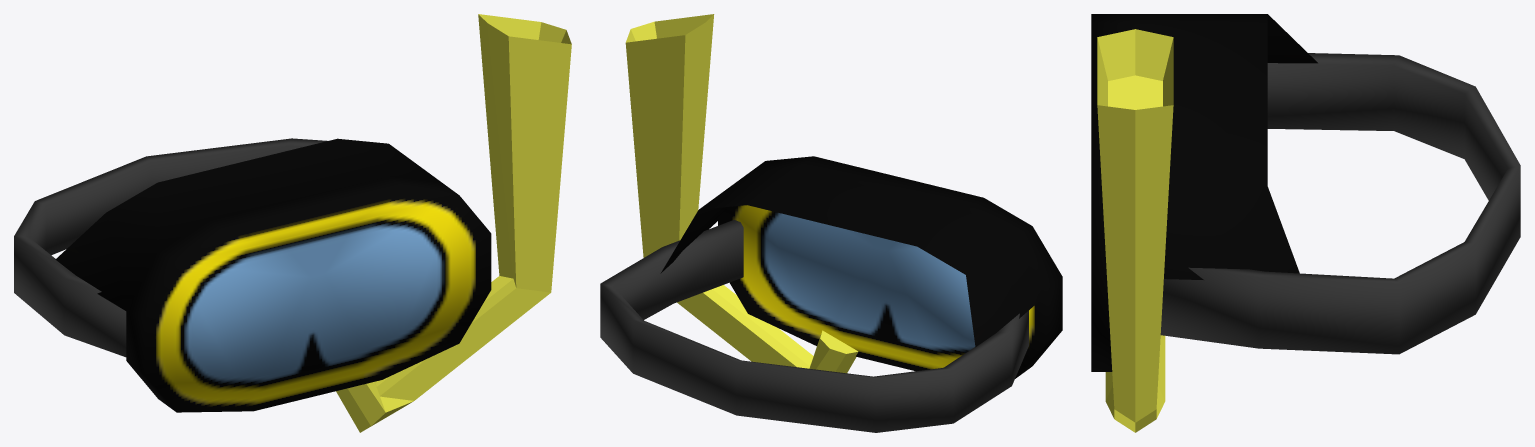
The model's file is amogus-hat-scuba.fbx.
The picture shows the model from 3 angles, left to right: view 1: azimuth 30°, elevation 25°; view 2: azimuth 150°, elevation 25°; view 3: azimuth 270°, elevation 25°; orthographic projection. The views are drawn at different scales.
Parts seen in each view (by area): view 1: ScubaHat; view 2: ScubaHat; view 3: ScubaHat.
Boxes of the visible parts, bbox=[...] form: ScubaHat: bbox=[14, 14, 571, 432]; ScubaHat: bbox=[600, 14, 1062, 432]; ScubaHat: bbox=[1091, 14, 1520, 432].
Bounding box in the file's own units: 127 × 83.24 × 101.
